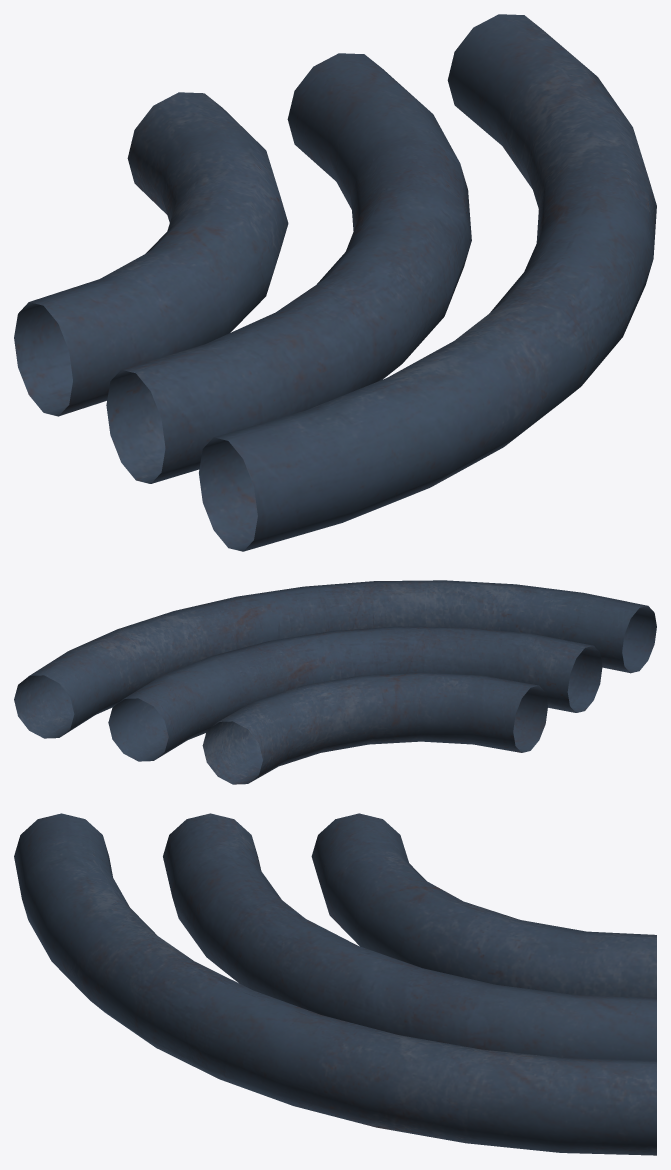
File: Pipe3_Courner1_L0.fbx
3 renders of one model, top to bottom at view 1: azimuth 30°, elevation 25°; view 2: azimuth 150°, elevation 25°; view 3: azimuth 270°, elevation 25°, orthographic. The views are drawn at different scales.
Visible parts, largest first — view 1: PIpe3_Courner1_L0; view 2: PIpe3_Courner1_L0; view 3: PIpe3_Courner1_L0.
Boxes of the visible parts, x1,y1,x2,y2 form: PIpe3_Courner1_L0: (14,14,656,551); PIpe3_Courner1_L0: (14,580,656,784); PIpe3_Courner1_L0: (14,813,656,1155).
Size of the model in its own units: 71.99 by 10.66 by 71.99.
